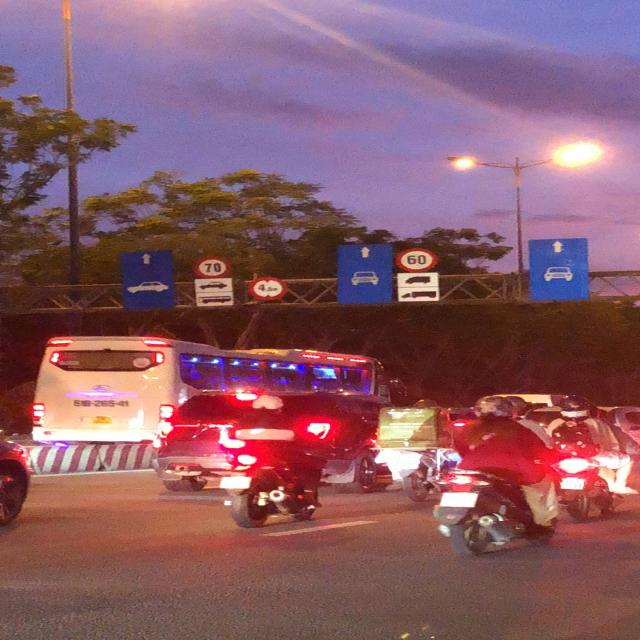Bien bao han che chieu cao: (246, 274, 290, 303)
Bien bao toc do toi da cho phep: (392, 246, 442, 274), (190, 255, 230, 280)
